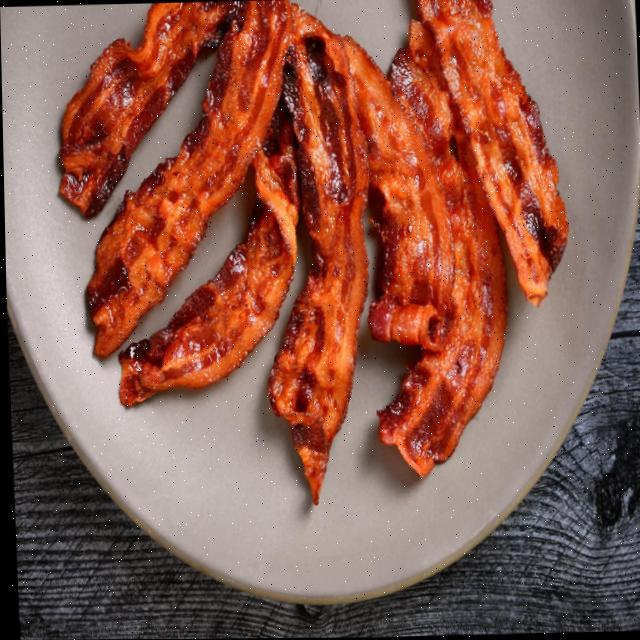Bacon: (84, 0, 293, 356), (344, 21, 504, 475), (117, 107, 298, 405), (266, 5, 367, 504), (417, 0, 566, 305), (58, 1, 233, 216), (344, 38, 452, 313)
